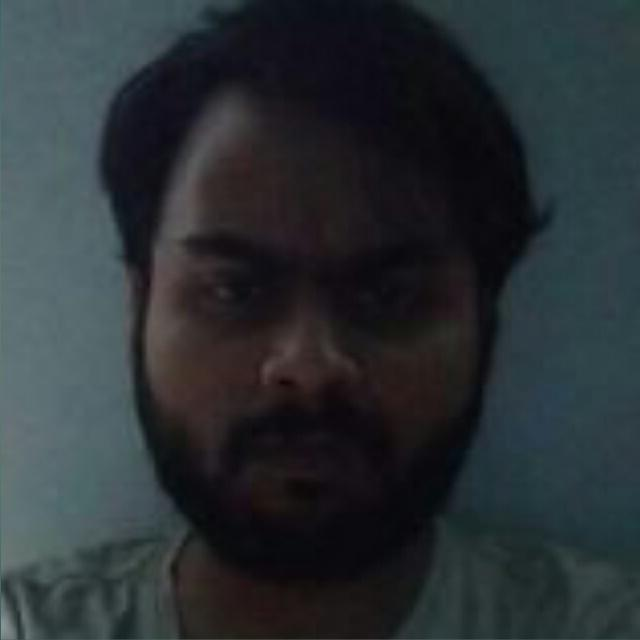Angry: (83, 96, 534, 561)
